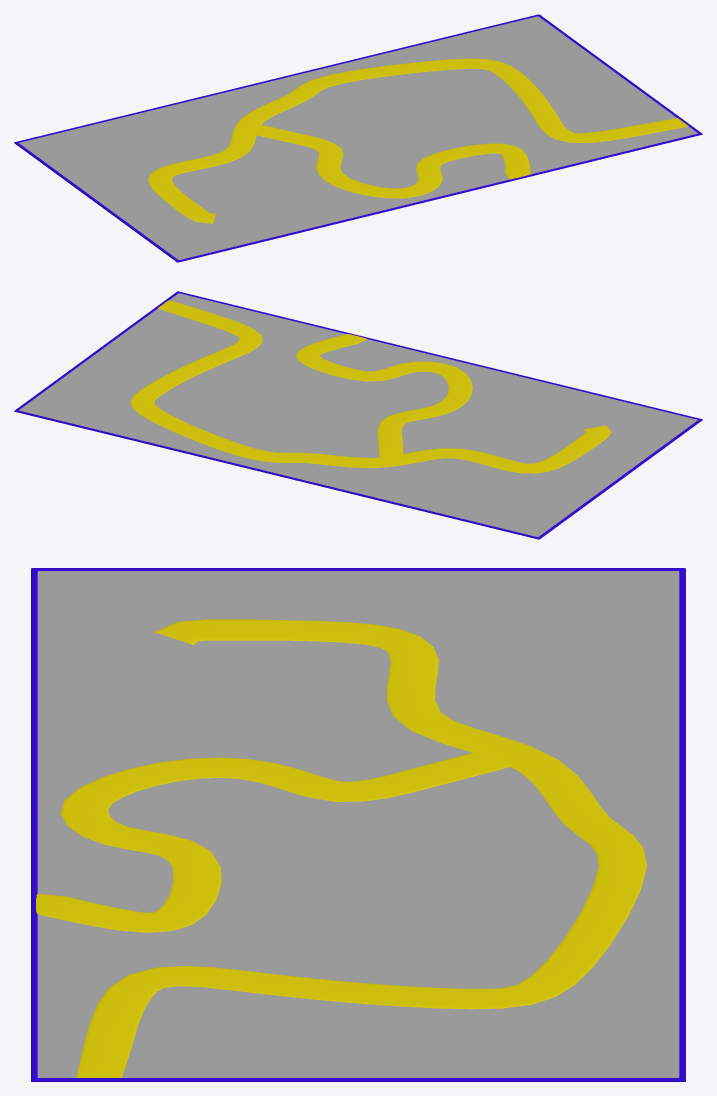
File: playmat.fbx
3 views of the same model, one above another, from view 1: azimuth 30°, elevation 25°; view 2: azimuth 150°, elevation 25°; view 3: azimuth 270°, elevation 25° (orthographic). The views are drawn at different scales.
Parts seen in each view (by area): view 1: polySurface2; view 2: polySurface2; view 3: polySurface2.
Boxes of the visible parts, bbox=[...] form: polySurface2: bbox=[14, 14, 702, 262]; polySurface2: bbox=[14, 291, 702, 539]; polySurface2: bbox=[31, 568, 685, 1081].
Size of the model in its own units: 146 by 0.2236 by 78.85.
